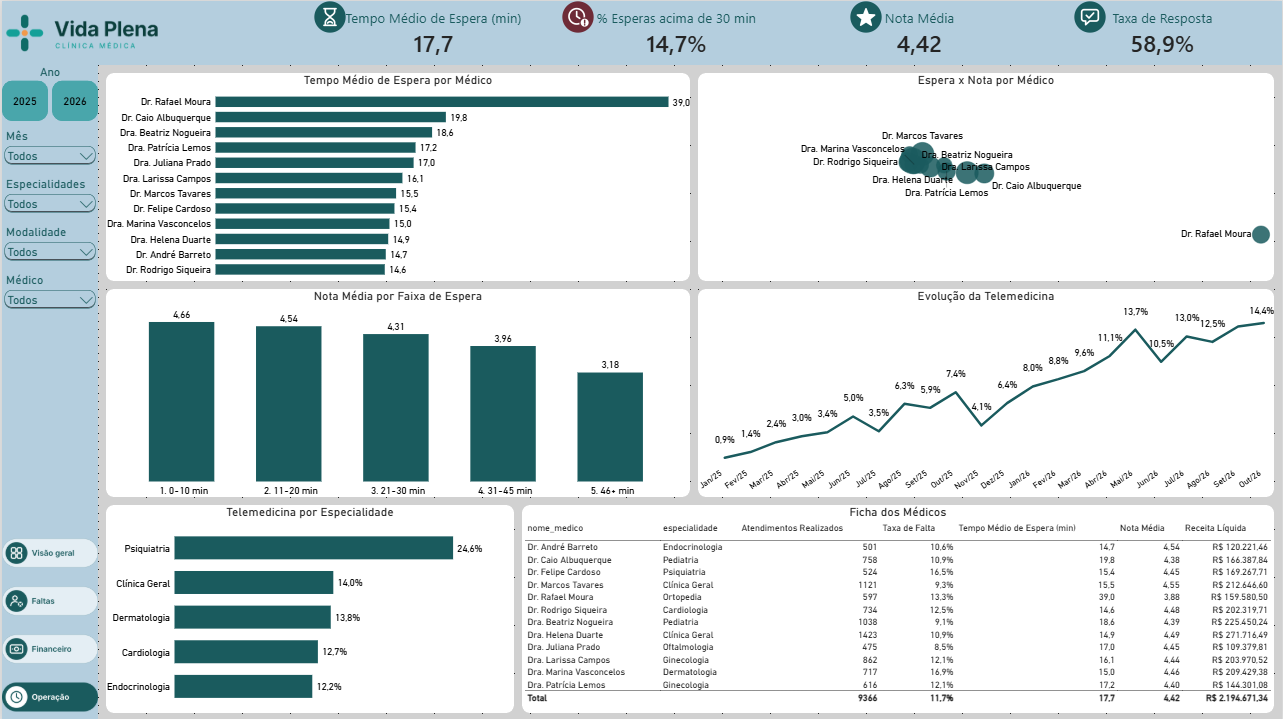

The dashboard page shown, as its layout file describes it:
{"tool":"powerbi","page":{"name":"Operação","canvas":[2560,1440],"ordinal":3},"visuals":[{"type":"shape","box":[208,1008,816,416],"z":0},{"type":"shape","box":[1392,576,1152,416],"z":1000},{"type":"shape","box":[1392,144,1152,416],"z":2000},{"type":"shape","box":[0,-176,192,1616],"z":3000},{"type":"shape","box":[208,144,1168,416],"z":4000},{"type":"shape","box":[0,0,2560,128],"z":5000},{"type":"image","box":[0,0,320,128],"z":6000},{"type":"cardVisual","fields":{"Data":["Medidas.Tempo Médio de Espera (min)","Medidas.% Esperas acima de 30 min","Medidas.Nota Média","Medidas.Taxa de Resposta"]},"box":[624,16,1936,96],"z":7000},{"type":"shape","box":[208,576,1168,416],"z":8000},{"type":"lineChart","title":"Evolução da Telemedicina","fields":{"Category":["dim_calendario.Mês/Ano"],"Y":["Medidas.% Telemedicina"]},"box":[1392,576,1152,416],"z":9000},{"type":"barChart","title":"Tempo Médio de Espera por Médico","fields":{"Category":["dim_medicos.nome_medico"],"Y":["Medidas.Tempo Médio de Espera (min)"]},"box":[208,144,1168,416],"z":10000},{"type":"barChart","title":"Telemedicina por Especialidade","fields":{"Category":["dim_medicos.especialidade"],"Y":["Medidas.% Telemedicina"]},"box":[208,1008,816,416],"z":11000},{"type":"columnChart","title":"Nota Média por Faixa de Espera","fields":{"Category":["fato_atendimentos.Faixa de Espera"],"Y":["Medidas.Nota Média"]},"box":[208,576,1168,416],"z":13000},{"type":"slicer","fields":{"Values":["dim_medicos.especialidade"]},"box":[0,352,192,96],"z":14000},{"type":"image","box":[1104,0,96,64],"z":15000},{"type":"image","box":[608,0,96,64],"z":16000},{"type":"image","box":[2128,0,96,64],"z":17000},{"type":"image","box":[1680,0,96,64],"z":19000},{"type":"slicer","fields":{"Values":["dim_medicos.nome_medico"]},"box":[0,544,192,96],"z":20000},{"type":"slicer","fields":{"Values":["fato_atendimentos.modalidade"]},"box":[0,448,192,96],"z":21000},{"type":"advancedSlicerVisual","title":"Ano","fields":{"Values":["dim_calendario.ano"]},"box":[0,128,192,112],"z":22000},{"type":"slicer","fields":{"Values":["dim_calendario.mes_nome"]},"box":[0,256,192,96],"z":23000},{"type":"actionButton","box":[0,1072,192,64],"z":24000},{"type":"actionButton","box":[0,1168,192,64],"z":25000},{"type":"actionButton","box":[0,1264,192,64],"z":26000},{"type":"actionButton","box":[0,1360,192,64],"z":27000},{"type":"scatterChart","title":"Espera x Nota por Médico","fields":{"Category":["dim_medicos.nome_medico"],"Size":["Medidas.Atendimentos Realizados"],"X":["Medidas.Tempo Médio de Espera (min)"],"Y":["Medidas.Nota Média"]},"box":[1392,144,1152,416],"z":27001},{"type":"shape","box":[1040,1008,1504,416],"z":27002},{"type":"tableEx","title":"Ficha dos Médicos","fields":{"Values":["dim_medicos.nome_medico","dim_medicos.especialidade","Medidas.Atendimentos Realizados","Medidas.Taxa de Falta","Medidas.Tempo Médio de Espera (min)","Medidas.Nota Média","Medidas.Receita Líquida"]},"box":[1040,1008,1504,416],"z":27003}]}

Visuals, with their boxes in screenshot pixels (x1, y1, x2, y2), scaled from the page's 2560x1440 canvas onto the 1283x719 screenshot:
shape: bbox=(104, 503, 513, 711)
shape: bbox=(698, 288, 1275, 495)
shape: bbox=(698, 72, 1275, 280)
shape: bbox=(0, 0, 96, 718)
shape: bbox=(104, 72, 690, 280)
shape: bbox=(0, 0, 1282, 64)
image: bbox=(0, 0, 160, 64)
cardVisual - Medidas.Tempo Médio de Espera (min) x Medidas.% Esperas acima de 30 min: bbox=(313, 8, 1282, 56)
shape: bbox=(104, 288, 690, 495)
"Evolução da Telemedicina" lineChart: bbox=(698, 288, 1275, 495)
"Tempo Médio de Espera por Médico" barChart: bbox=(104, 72, 690, 280)
"Telemedicina por Especialidade" barChart: bbox=(104, 503, 513, 711)
"Nota Média por Faixa de Espera" columnChart: bbox=(104, 288, 690, 495)
slicer - dim_medicos.especialidade: bbox=(0, 176, 96, 224)
image: bbox=(553, 0, 601, 32)
image: bbox=(305, 0, 353, 32)
image: bbox=(1066, 0, 1115, 32)
image: bbox=(842, 0, 890, 32)
slicer - dim_medicos.nome_medico: bbox=(0, 272, 96, 320)
slicer - fato_atendimentos.modalidade: bbox=(0, 224, 96, 272)
"Ano" advancedSlicerVisual: bbox=(0, 64, 96, 120)
slicer - dim_calendario.mes_nome: bbox=(0, 128, 96, 176)
actionButton: bbox=(0, 535, 96, 567)
actionButton: bbox=(0, 583, 96, 615)
actionButton: bbox=(0, 631, 96, 663)
actionButton: bbox=(0, 679, 96, 711)
"Espera x Nota por Médico" scatterChart: bbox=(698, 72, 1275, 280)
shape: bbox=(521, 503, 1275, 711)
"Ficha dos Médicos" tableEx: bbox=(521, 503, 1275, 711)
